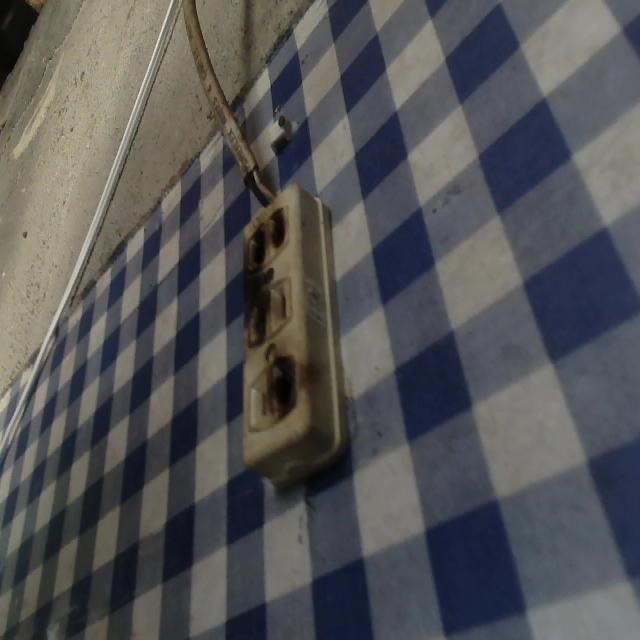-: (243, 208, 290, 259), (269, 357, 299, 420), (242, 284, 271, 343)
